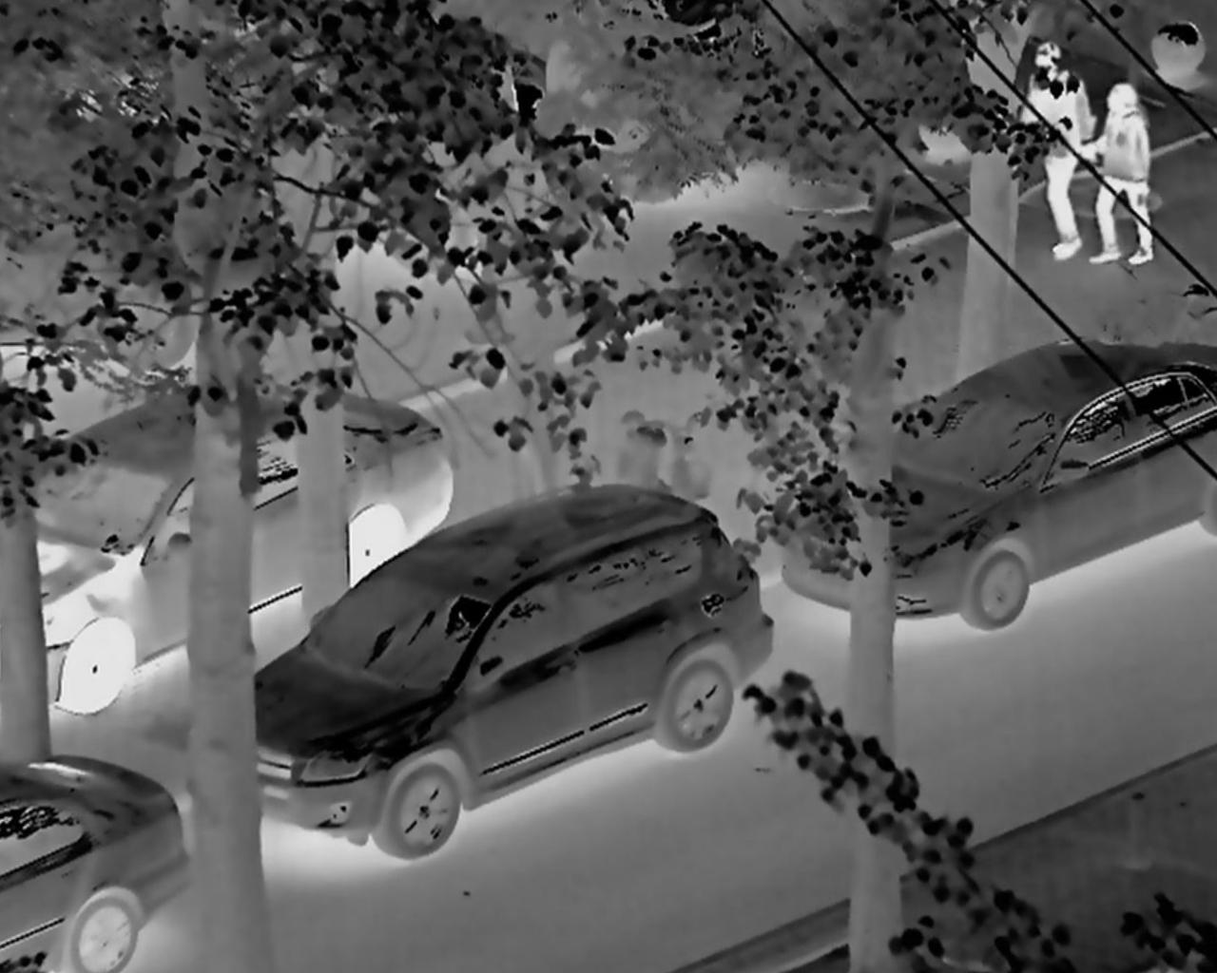person: (1013, 28, 1088, 269), (1079, 71, 1164, 277)
